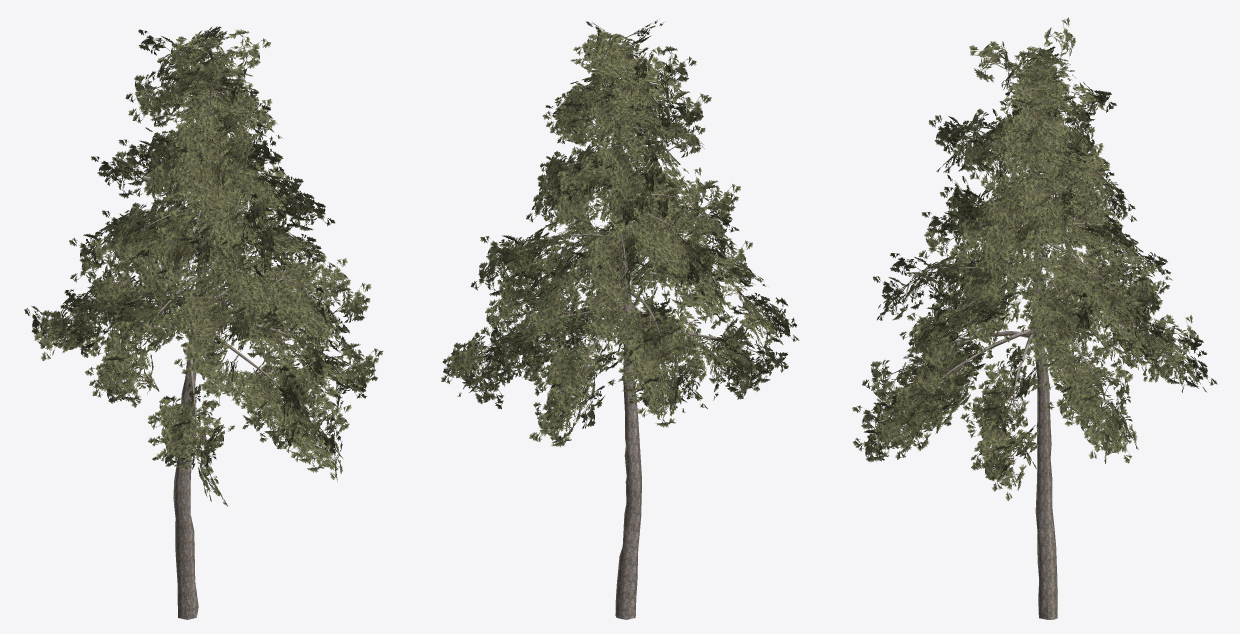
The model's file is pine-b.glb.
3 views of the same model, side by side, from view 1: azimuth 30°, elevation 25°; view 2: azimuth 150°, elevation 25°; view 3: azimuth 270°, elevation 25° (orthographic).
Parts seen in each view (by area): view 1: pine-b; view 2: pine-b; view 3: pine-b.
Boxes of the visible parts, bbox=[...] form: pine-b: bbox=[24, 26, 383, 619]; pine-b: bbox=[441, 20, 799, 619]; pine-b: bbox=[852, 17, 1217, 619].
Bounding box in the file's own units: 12.17 × 20.76 × 12.44.
Materials: 2 (2 with a texture image).
